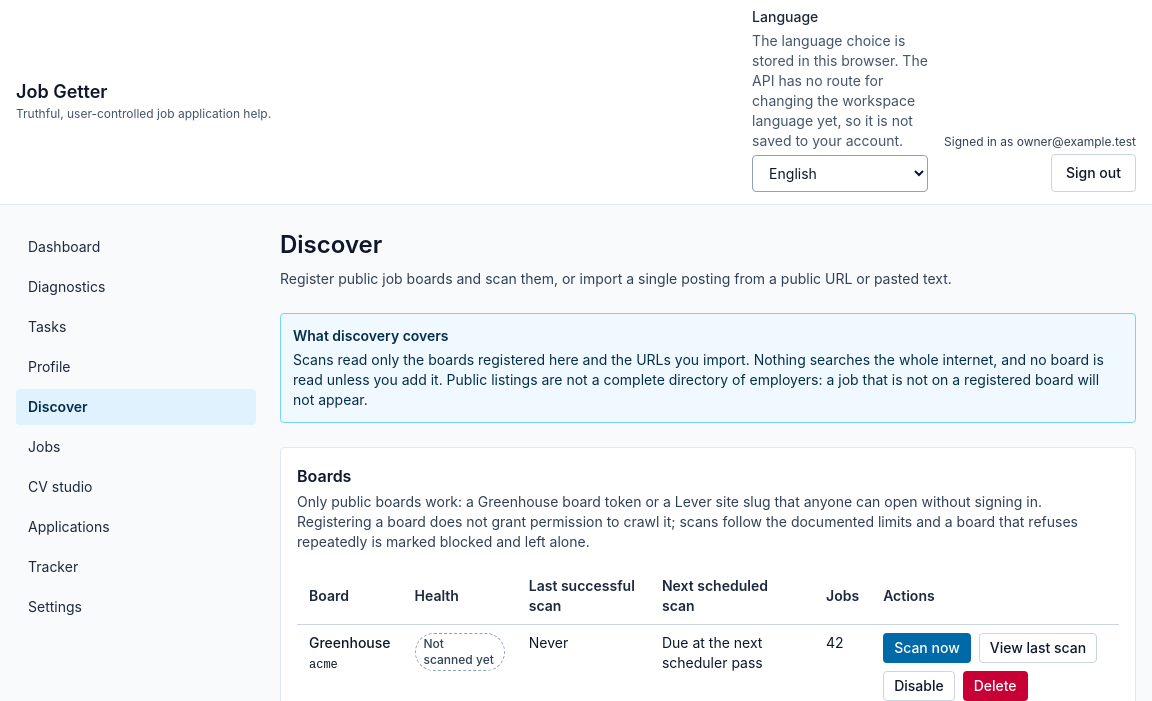
Test: discover: scan status › renders a 304 re-scan as unchanged since the last scan, not as a partial alarm
Expected: the heading "Discover" is shown, [280,230,382,259]
Step 1. Click the button "View last scan" → coordinates (1038, 648), box [979,633,1097,663]
(page scrolled)
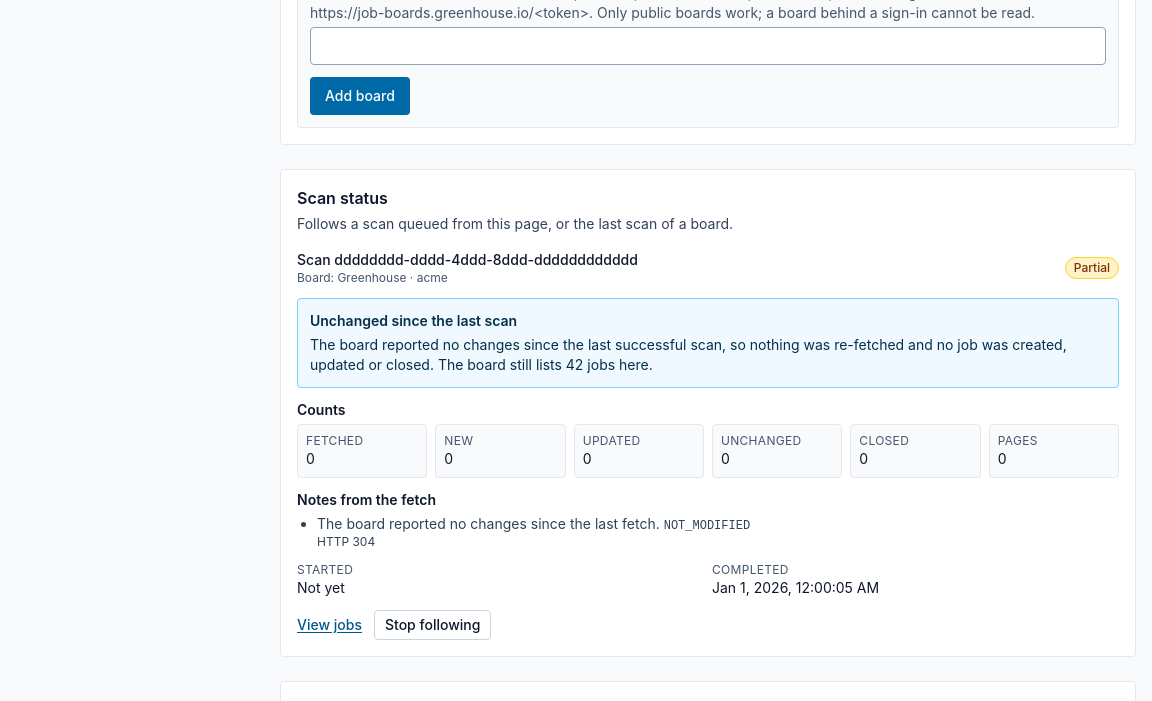
Expected: the text with test id "scan-unchanged" shows "The board reported no changes", [310,336,1067,373]
Expected: the text with test id "scan-unchanged" shows "42 jobs", [310,336,1067,373]
